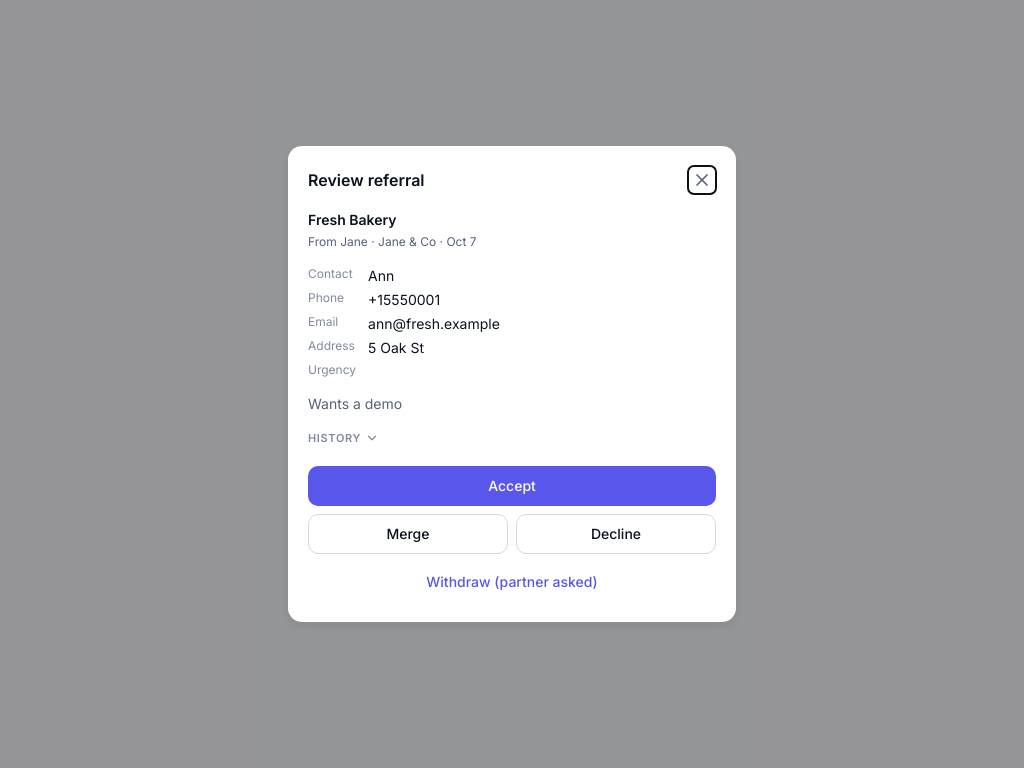
Test: ReviewReferralSheet › moves to merge when accept hits a duplicate
Click the button "Accept" at (512, 486), box [308,466,716,506]
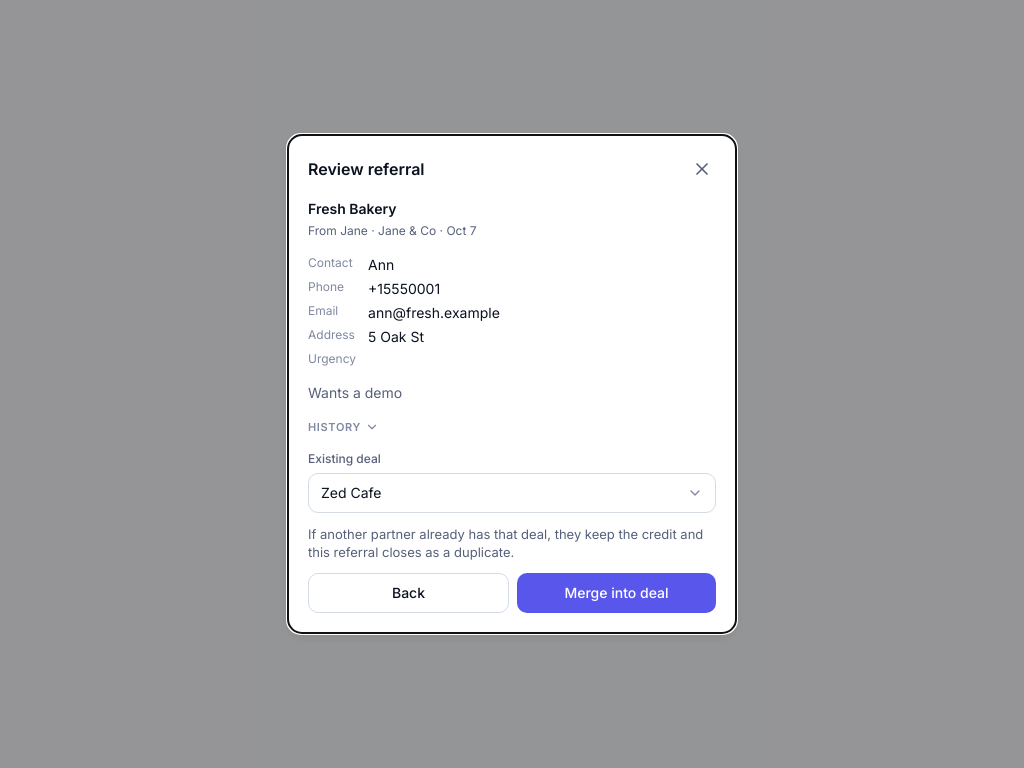
Expected: the button "Merge into deal" is shown, [517,573,716,613]
